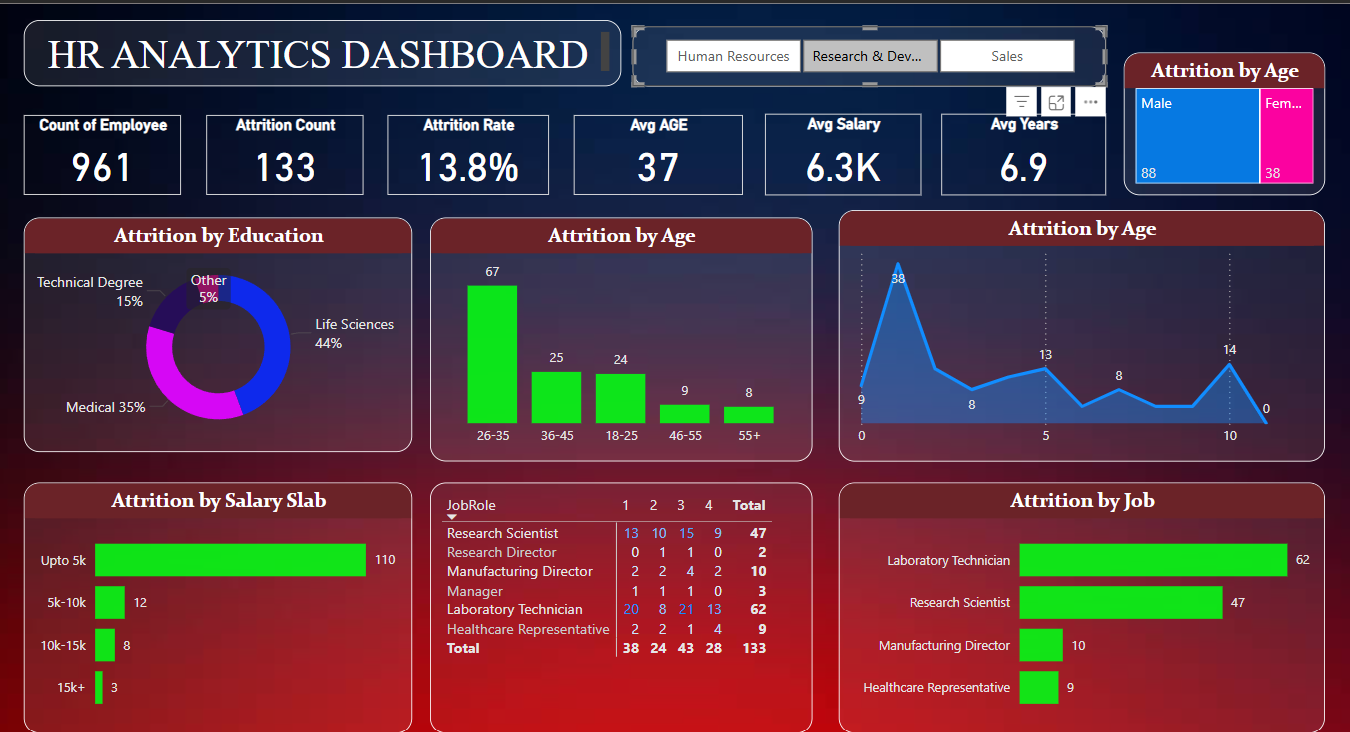

The page's visual inventory and layout, read from the dashboard file:
{"tool":"powerbi","page":{"name":"Page 1","canvas":[1280,720],"ordinal":0},"visuals":[{"type":"card","title":"Count of Employee","fields":{"Values":["CountNonNull(HR_Analytics.EmpID)"]},"box":[31.8,104.7,148.2,75.3],"z":0},{"type":"card","title":"Avg AGE","fields":{"Values":["Avg(HR_Analytics.Age)"]},"box":[549.4,104.7,158.8,75.3],"z":1000},{"type":"card","title":"Attrition Rate","fields":{"Values":["HR_Analytics.AttritionRate"]},"box":[374.1,104.7,151.8,75.3],"z":2000},{"type":"card","title":"Attrition Count","fields":{"Values":["Sum(HR_Analytics.Attrition_Count)"]},"box":[203.5,104.7,148.2,75.3],"z":3000},{"type":"card","title":"Avg Salary","fields":{"Values":["Avg(HR_Analytics.MonthlyIncome)"]},"box":[729.4,103.5,147.1,76.5],"z":4000},{"type":"card","title":"Avg Years","fields":{"Values":["Avg(HR_Analytics.YearsAtCompany)"]},"box":[895.3,103.5,155.3,76.5],"z":5000},{"type":"donutChart","title":"Attrition by Education","fields":{"Category":["HR_Analytics.EducationField"],"Y":["Sum(HR_Analytics.AttritionCount)"]},"box":[31.8,201.2,365.9,221.2],"z":6000},{"type":"columnChart","title":"Attrition by Age","fields":{"Category":["HR_Analytics.AgeGroup"],"Y":["Sum(HR_Analytics.AttritionCount)"]},"box":[414.1,201.2,360,229.4],"z":7000},{"type":"pivotTable","fields":{"Rows":["HR_Analytics.JobRole"],"Columns":["HR_Analytics.JobSatisfaction"],"Values":["Sum(HR_Analytics.AttritionCount)"]},"box":[414.1,450.6,360,236.5],"z":8000},{"type":"barChart","title":"Attrition by Salary Slab","fields":{"Category":["HR_Analytics.SalarySlab"],"Y":["Sum(HR_Analytics.AttritionCount)"]},"box":[31.8,450.6,365.9,236.5],"z":9000},{"type":"barChart","title":"Attrition by Job","fields":{"Category":["HR_Analytics.JobRole"],"Y":["Sum(HR_Analytics.AttritionCount)"]},"box":[798.8,450.6,457.6,236.5],"z":10000},{"type":"areaChart","title":"Attrition by Years at Companys","fields":{"Category":["HR_Analytics.YearsAtCompany"],"Y":["Sum(HR_Analytics.AttritionCount)"]},"box":[798.8,194.1,457.6,236.5],"z":11000},{"type":"treemap","title":"Attrition by Age","fields":{"Group":["HR_Analytics.Gender"],"Values":["Sum(HR_Analytics.AttritionCount)"]},"box":[1067.1,45.9,189.4,134.1],"z":12000},{"type":"slicer","fields":{"Values":["HR_Analytics.Department"]},"box":[604.7,21.2,445.9,56.5],"z":13000},{"type":"textbox","box":[31.8,15.3,562.4,62.4],"z":14000}]}

Visuals, with their boxes on the page's 1280x720 design canvas (x1, y1, x2, y2). These are canvas units, not pixel positions in the 1350x732 screenshot, which may show the page scaled, cropped or inside an application window:
"Count of Employee" card: <box>32,105,180,180</box>
"Avg AGE" card: <box>549,105,708,180</box>
"Attrition Rate" card: <box>374,105,526,180</box>
"Attrition Count" card: <box>204,105,352,180</box>
"Avg Salary" card: <box>729,104,876,180</box>
"Avg Years" card: <box>895,104,1051,180</box>
"Attrition by Education" donutChart: <box>32,201,398,422</box>
"Attrition by Age" columnChart: <box>414,201,774,431</box>
pivotTable - HR_Analytics.JobRole x HR_Analytics.JobSatisfaction: <box>414,451,774,687</box>
"Attrition by Salary Slab" barChart: <box>32,451,398,687</box>
"Attrition by Job" barChart: <box>799,451,1256,687</box>
"Attrition by Years at Companys" areaChart: <box>799,194,1256,431</box>
"Attrition by Age" treemap: <box>1067,46,1256,180</box>
slicer - HR_Analytics.Department: <box>605,21,1051,78</box>
textbox: <box>32,15,594,78</box>
